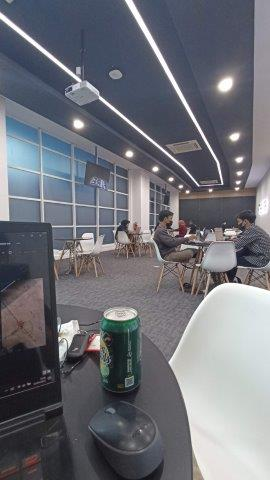kaleng: (100, 307, 142, 394)
